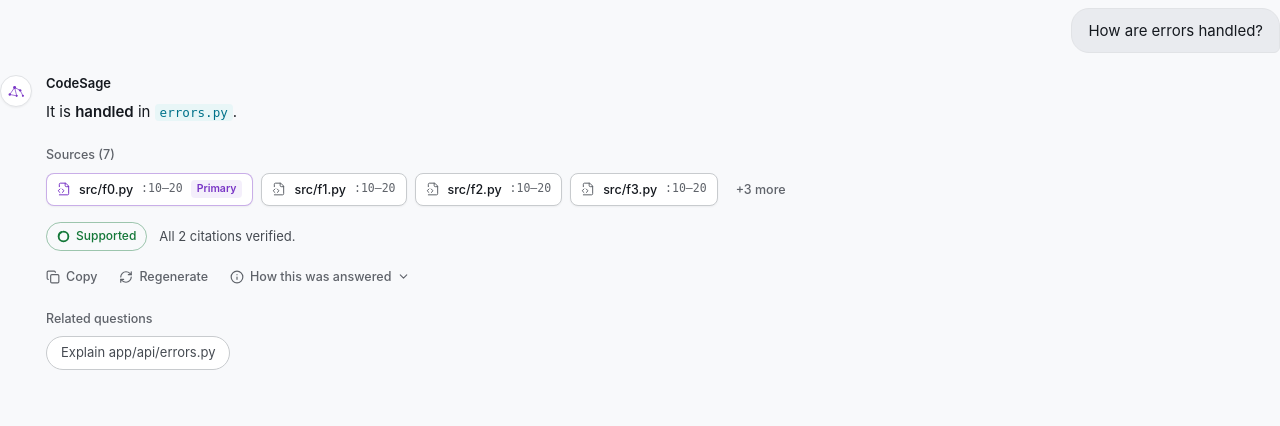
Test: AskTurnView › collapses a long source list behind '+N more' and can expand it
Expected: the number of buttons "src/f0.py :10–20 Primary" is 4, [46,173,253,206]; [261,173,406,206]; [414,173,562,206]; [570,173,718,206]
Click the button "+3 more".
click(761, 189)  # box [726,173,796,206]
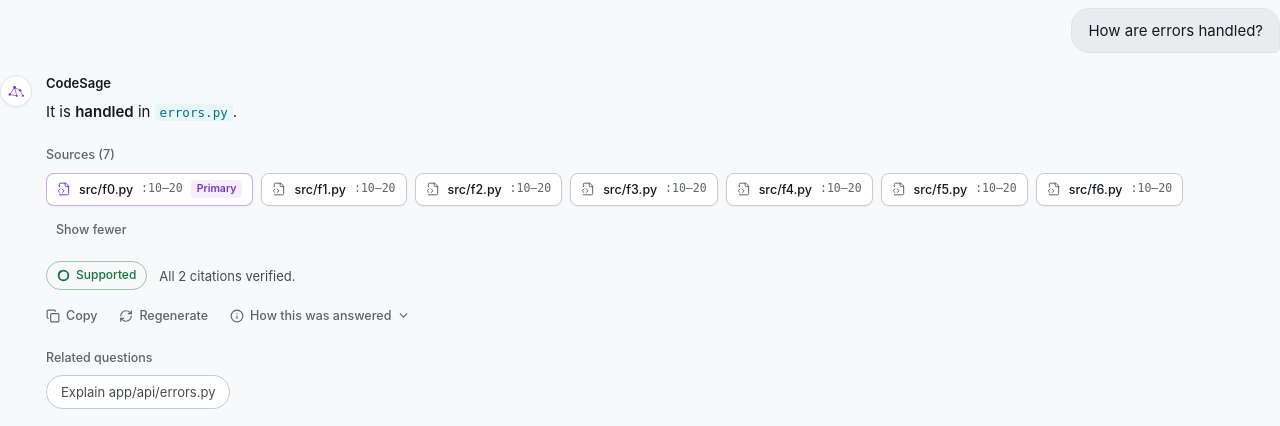
Expected: the number of buttons "src/f0.py :10–20 Primary" is 7
Click the button "Show fewer".
click(91, 230)  # box [46,214,136,245]
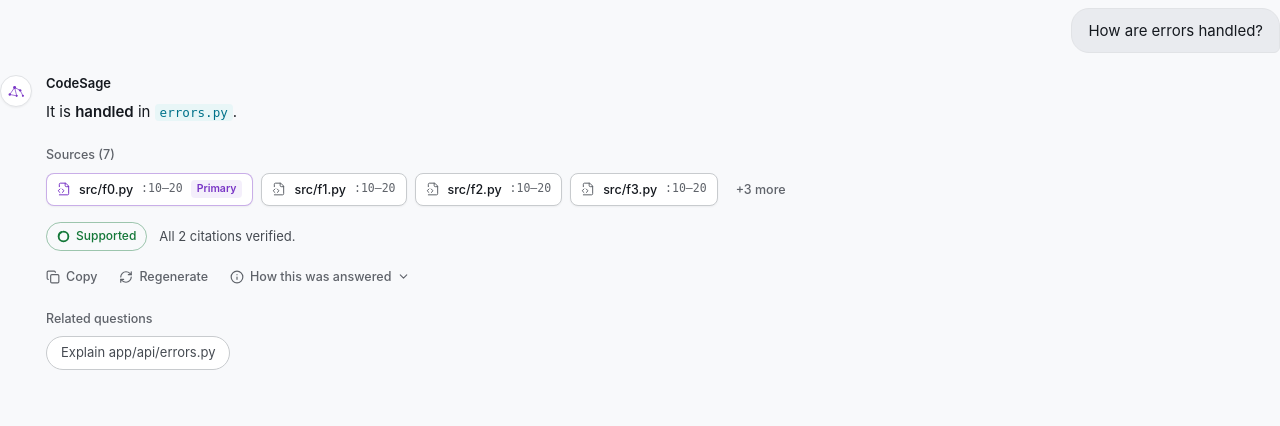
Expected: the number of buttons "src/f0.py :10–20 Primary" is 4, [46,173,253,206]; [261,173,406,206]; [414,173,562,206]; [570,173,718,206]
